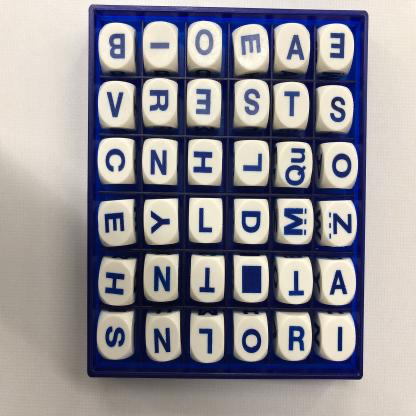a: (322, 260, 357, 306), (277, 24, 311, 69)
b: (100, 25, 134, 70)
c: (99, 140, 133, 183)
d: (235, 200, 270, 245)
e: (320, 24, 356, 71), (99, 200, 134, 248), (235, 24, 270, 70), (187, 82, 223, 126)
h: (99, 260, 133, 307), (189, 141, 223, 186)
i: (322, 315, 357, 362), (144, 23, 177, 69)
l: (235, 142, 270, 188), (191, 317, 225, 363), (189, 199, 223, 244)
m: (279, 200, 313, 245)
n: (146, 316, 181, 362), (145, 256, 178, 303), (143, 140, 177, 185)
o: (323, 143, 358, 190), (188, 22, 222, 69), (235, 317, 269, 362)
qu: (278, 143, 313, 189)
r: (143, 80, 178, 126), (278, 317, 312, 362)
s: (97, 315, 132, 360), (236, 83, 270, 128), (320, 87, 354, 132)
t: (278, 259, 313, 304), (192, 257, 226, 303), (276, 83, 310, 128)
v: (99, 81, 135, 129)
wild: (235, 256, 269, 303)
y: (145, 199, 179, 245)
z: (323, 202, 356, 248)
